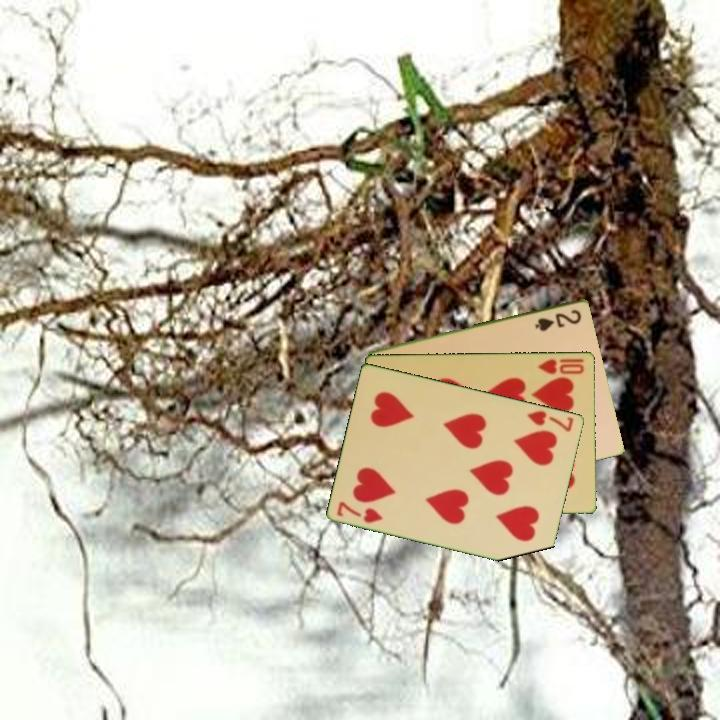10h: (534, 355, 587, 377)
2s: (532, 306, 584, 334)
7h: (524, 407, 577, 435), (333, 498, 386, 526)
